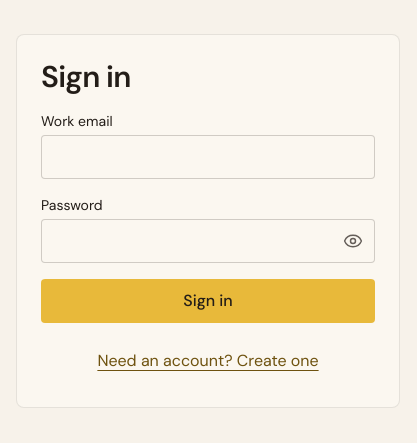
SignInPage › a wrong password clears the button and says so
Type "van@example.com" into the field labelled "Work email" at (208, 157), box [41,135,375,179]
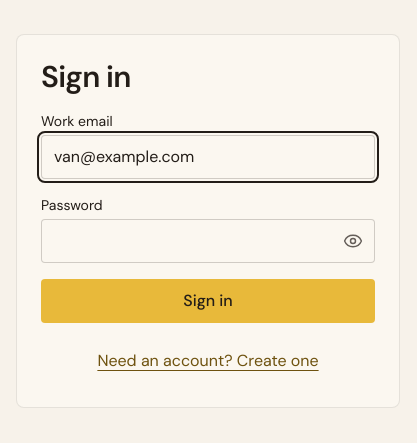
Type "correct-horse" into the password field labelled "Password" at (208, 241), box [41,219,375,263]
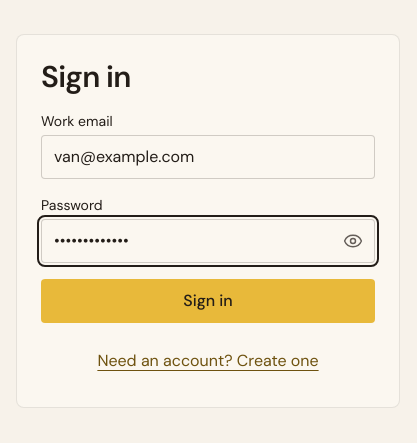
Click the button "Sign in" at (208, 301), box [41,279,375,323]
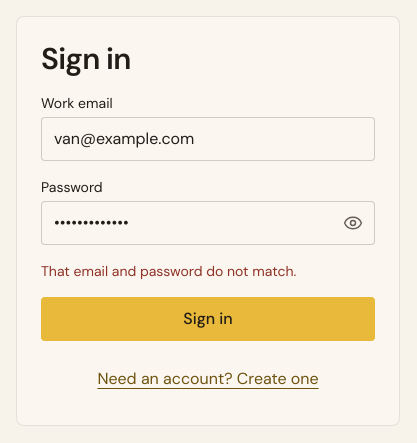
Expected: the button "Sign in" is enabled, [41,297,375,341]
Expected: the message reads "That email and password do not match.", [41,262,296,280]
